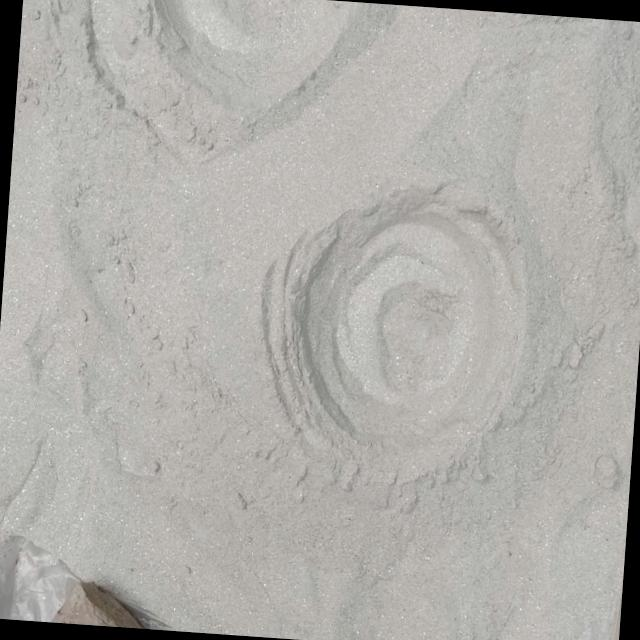C20: (294, 199, 522, 439), (153, 0, 354, 105)
